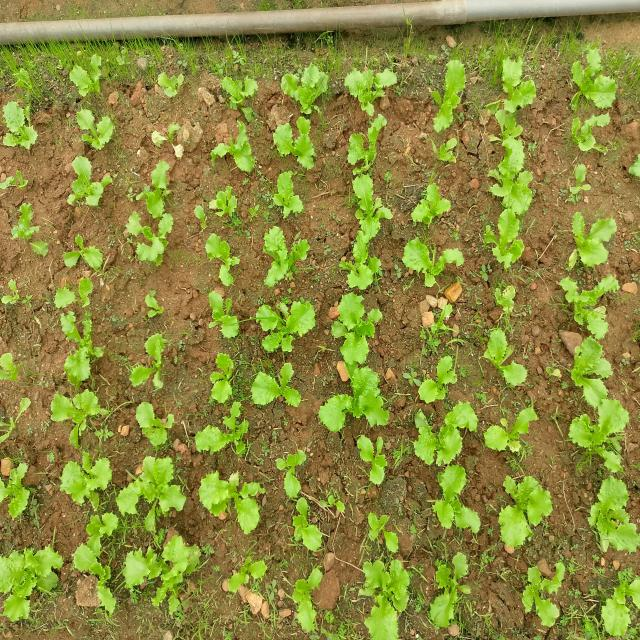Lettuce: (311, 361, 395, 438), (548, 272, 630, 342), (0, 534, 62, 623), (562, 398, 640, 468), (126, 529, 208, 595), (583, 464, 640, 555), (354, 559, 412, 640), (512, 560, 570, 640), (200, 466, 267, 535), (123, 452, 189, 520), (498, 469, 555, 546), (252, 292, 321, 355), (54, 314, 115, 384), (328, 284, 383, 359), (399, 230, 467, 290), (561, 210, 625, 273), (426, 470, 484, 537), (410, 399, 467, 467), (75, 522, 118, 611), (484, 148, 548, 205), (260, 225, 314, 292), (121, 205, 179, 267), (479, 198, 531, 267), (345, 171, 394, 244), (563, 338, 618, 402), (188, 401, 252, 456), (61, 449, 117, 511), (124, 333, 176, 399), (425, 58, 468, 135), (480, 326, 534, 387), (47, 388, 109, 440), (569, 52, 621, 114), (486, 393, 538, 453), (269, 115, 323, 172), (490, 59, 541, 116), (357, 493, 408, 550), (341, 115, 387, 178), (561, 106, 614, 160), (249, 361, 306, 410), (60, 154, 109, 211), (600, 569, 640, 638), (132, 399, 184, 452), (351, 434, 402, 487), (342, 66, 402, 111), (210, 126, 264, 176), (415, 356, 469, 406), (68, 107, 123, 155), (423, 578, 475, 628), (330, 237, 382, 287), (134, 160, 178, 219), (9, 204, 53, 261), (62, 52, 110, 104), (286, 497, 333, 550), (0, 459, 38, 521), (280, 70, 331, 116), (204, 290, 247, 344), (0, 98, 41, 153), (408, 178, 454, 227), (268, 445, 313, 492), (60, 228, 104, 276), (264, 171, 307, 220), (221, 560, 272, 601), (56, 268, 98, 317), (291, 565, 330, 617), (434, 550, 476, 597), (144, 120, 191, 162), (200, 235, 240, 282), (206, 346, 240, 399), (206, 180, 240, 232), (217, 74, 261, 114), (486, 111, 533, 146), (0, 164, 35, 198), (0, 277, 28, 318), (158, 62, 186, 100), (0, 348, 24, 382)
